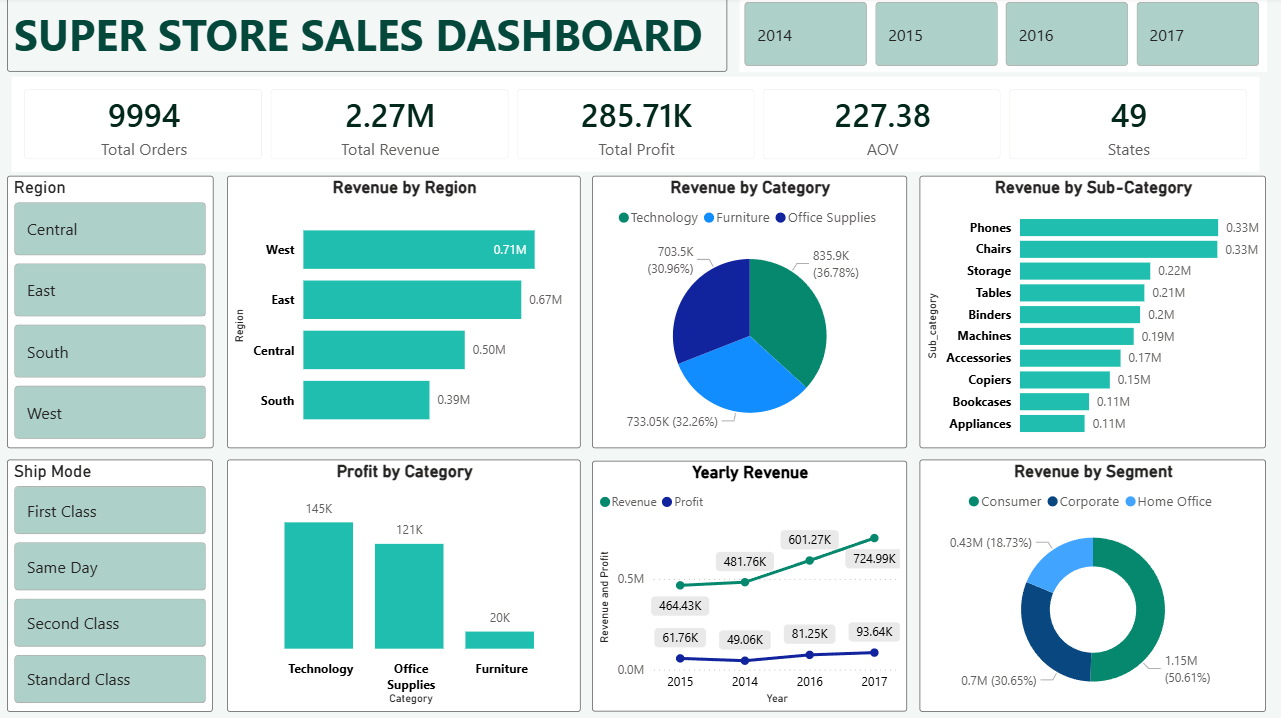

What the dashboard file says about the page in this screenshot:
{"tool":"powerbi","page":{"name":"Page 1","canvas":[1280,720],"ordinal":0},"visuals":[{"type":"cardVisual","fields":{"Data":["CountNonNull(sales_clean.order_id)","Sum(sales_clean.sales)","Sum(sales_clean.profit)","sales_clean.AOV","Count(sales_clean.state)"]},"box":[10,74.1,1252.9,104.1],"z":0},{"type":"clusteredBarChart","title":"Revenue by Region","fields":{"Y":["Sum(sales_clean.sales)"],"Category":["sales_clean.region"]},"box":[229.5,178.2,352.1,270.8],"z":1000},{"type":"columnChart","title":"Profit by Category","fields":{"Category":["sales_clean.category"],"Y":["Sum(sales_clean.profit)"]},"box":[229.5,460.4,352.1,250.9],"z":2000},{"type":"pieChart","title":"Revenue by Category","fields":{"Category":["sales_clean.category"],"Y":["Sum(sales_clean.sales)"]},"box":[591.5,178.2,313.6,270.8],"z":3000},{"type":"lineChart","title":"Yearly Revenue","fields":{"Y":["Sum(sales_clean.sales)","Sum(sales_clean.profit)"],"Category":["sales_clean.Year"]},"box":[591.5,461.8,313.6,249.4],"z":4000},{"type":"textbox","box":[10,0,717,74.1],"z":5000},{"type":"clusteredBarChart","title":"Revenue by Sub-Category","fields":{"Category":["sales_clean.sub_category"],"Y":["Sum(sales_clean.sales)"]},"box":[918,178.2,344.9,270.8],"z":6000},{"type":"donutChart","title":"Revenue by Segment","fields":{"Category":["sales_clean.segment"],"Y":["Sum(sales_clean.sales)"]},"box":[918,460.4,344.9,250.9],"z":7000},{"type":"advancedSlicerVisual","title":"Region","fields":{"Values":["sales_clean.region"]},"box":[10,178.2,205.3,270.8],"z":8000},{"type":"advancedSlicerVisual","fields":{"Values":["sales_clean.Year"]},"box":[738.4,0,524.5,74.1],"z":9000},{"type":"advancedSlicerVisual","fields":{"Values":["sales_clean.ship_mode"]},"box":[10,460,205,251],"z":10000}]}

Visuals, with their boxes in screenshot pixels (x1, y1, x2, y2), scaled from the page's 1280x720 canvas onto the 1281x718 screenshot:
cardVisual - CountNonNull(sales_clean.order_id) x Sum(sales_clean.sales): detection(10, 74, 1264, 178)
"Revenue by Region" clusteredBarChart: detection(230, 178, 582, 448)
"Profit by Category" columnChart: detection(230, 459, 582, 709)
"Revenue by Category" pieChart: detection(592, 178, 906, 448)
"Yearly Revenue" lineChart: detection(592, 461, 906, 709)
textbox: detection(10, 0, 728, 74)
"Revenue by Sub-Category" clusteredBarChart: detection(919, 178, 1264, 448)
"Revenue by Segment" donutChart: detection(919, 459, 1264, 709)
"Region" advancedSlicerVisual: detection(10, 178, 215, 448)
advancedSlicerVisual - sales_clean.Year: detection(739, 0, 1264, 74)
advancedSlicerVisual - sales_clean.ship_mode: detection(10, 459, 215, 709)
